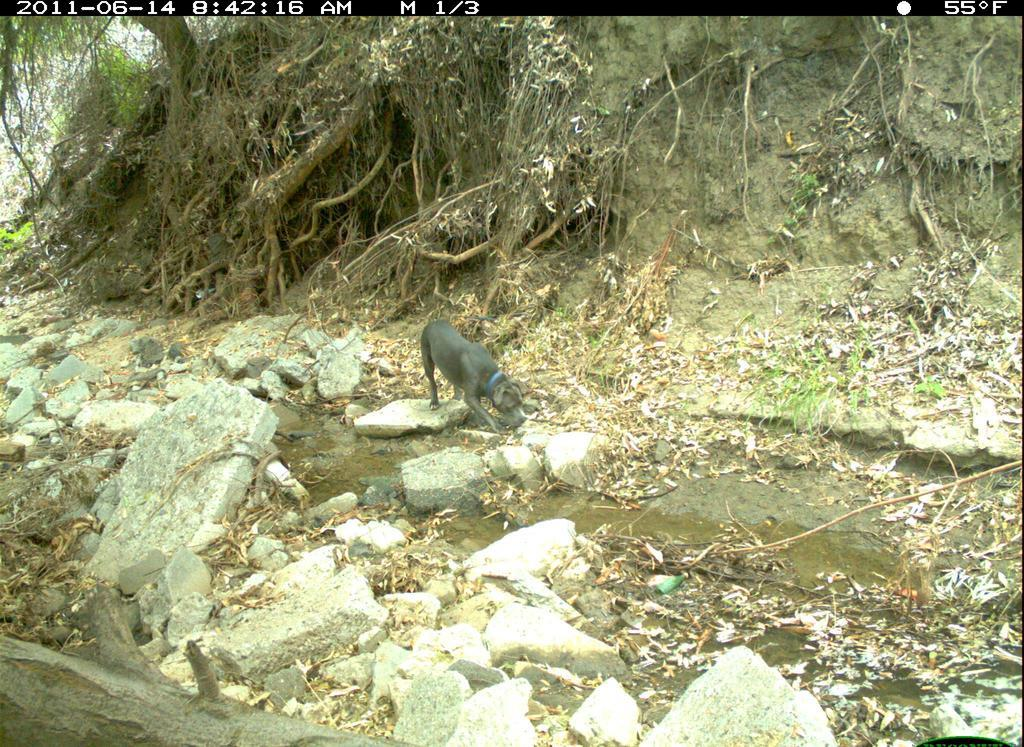dog: (400, 308, 556, 473)
